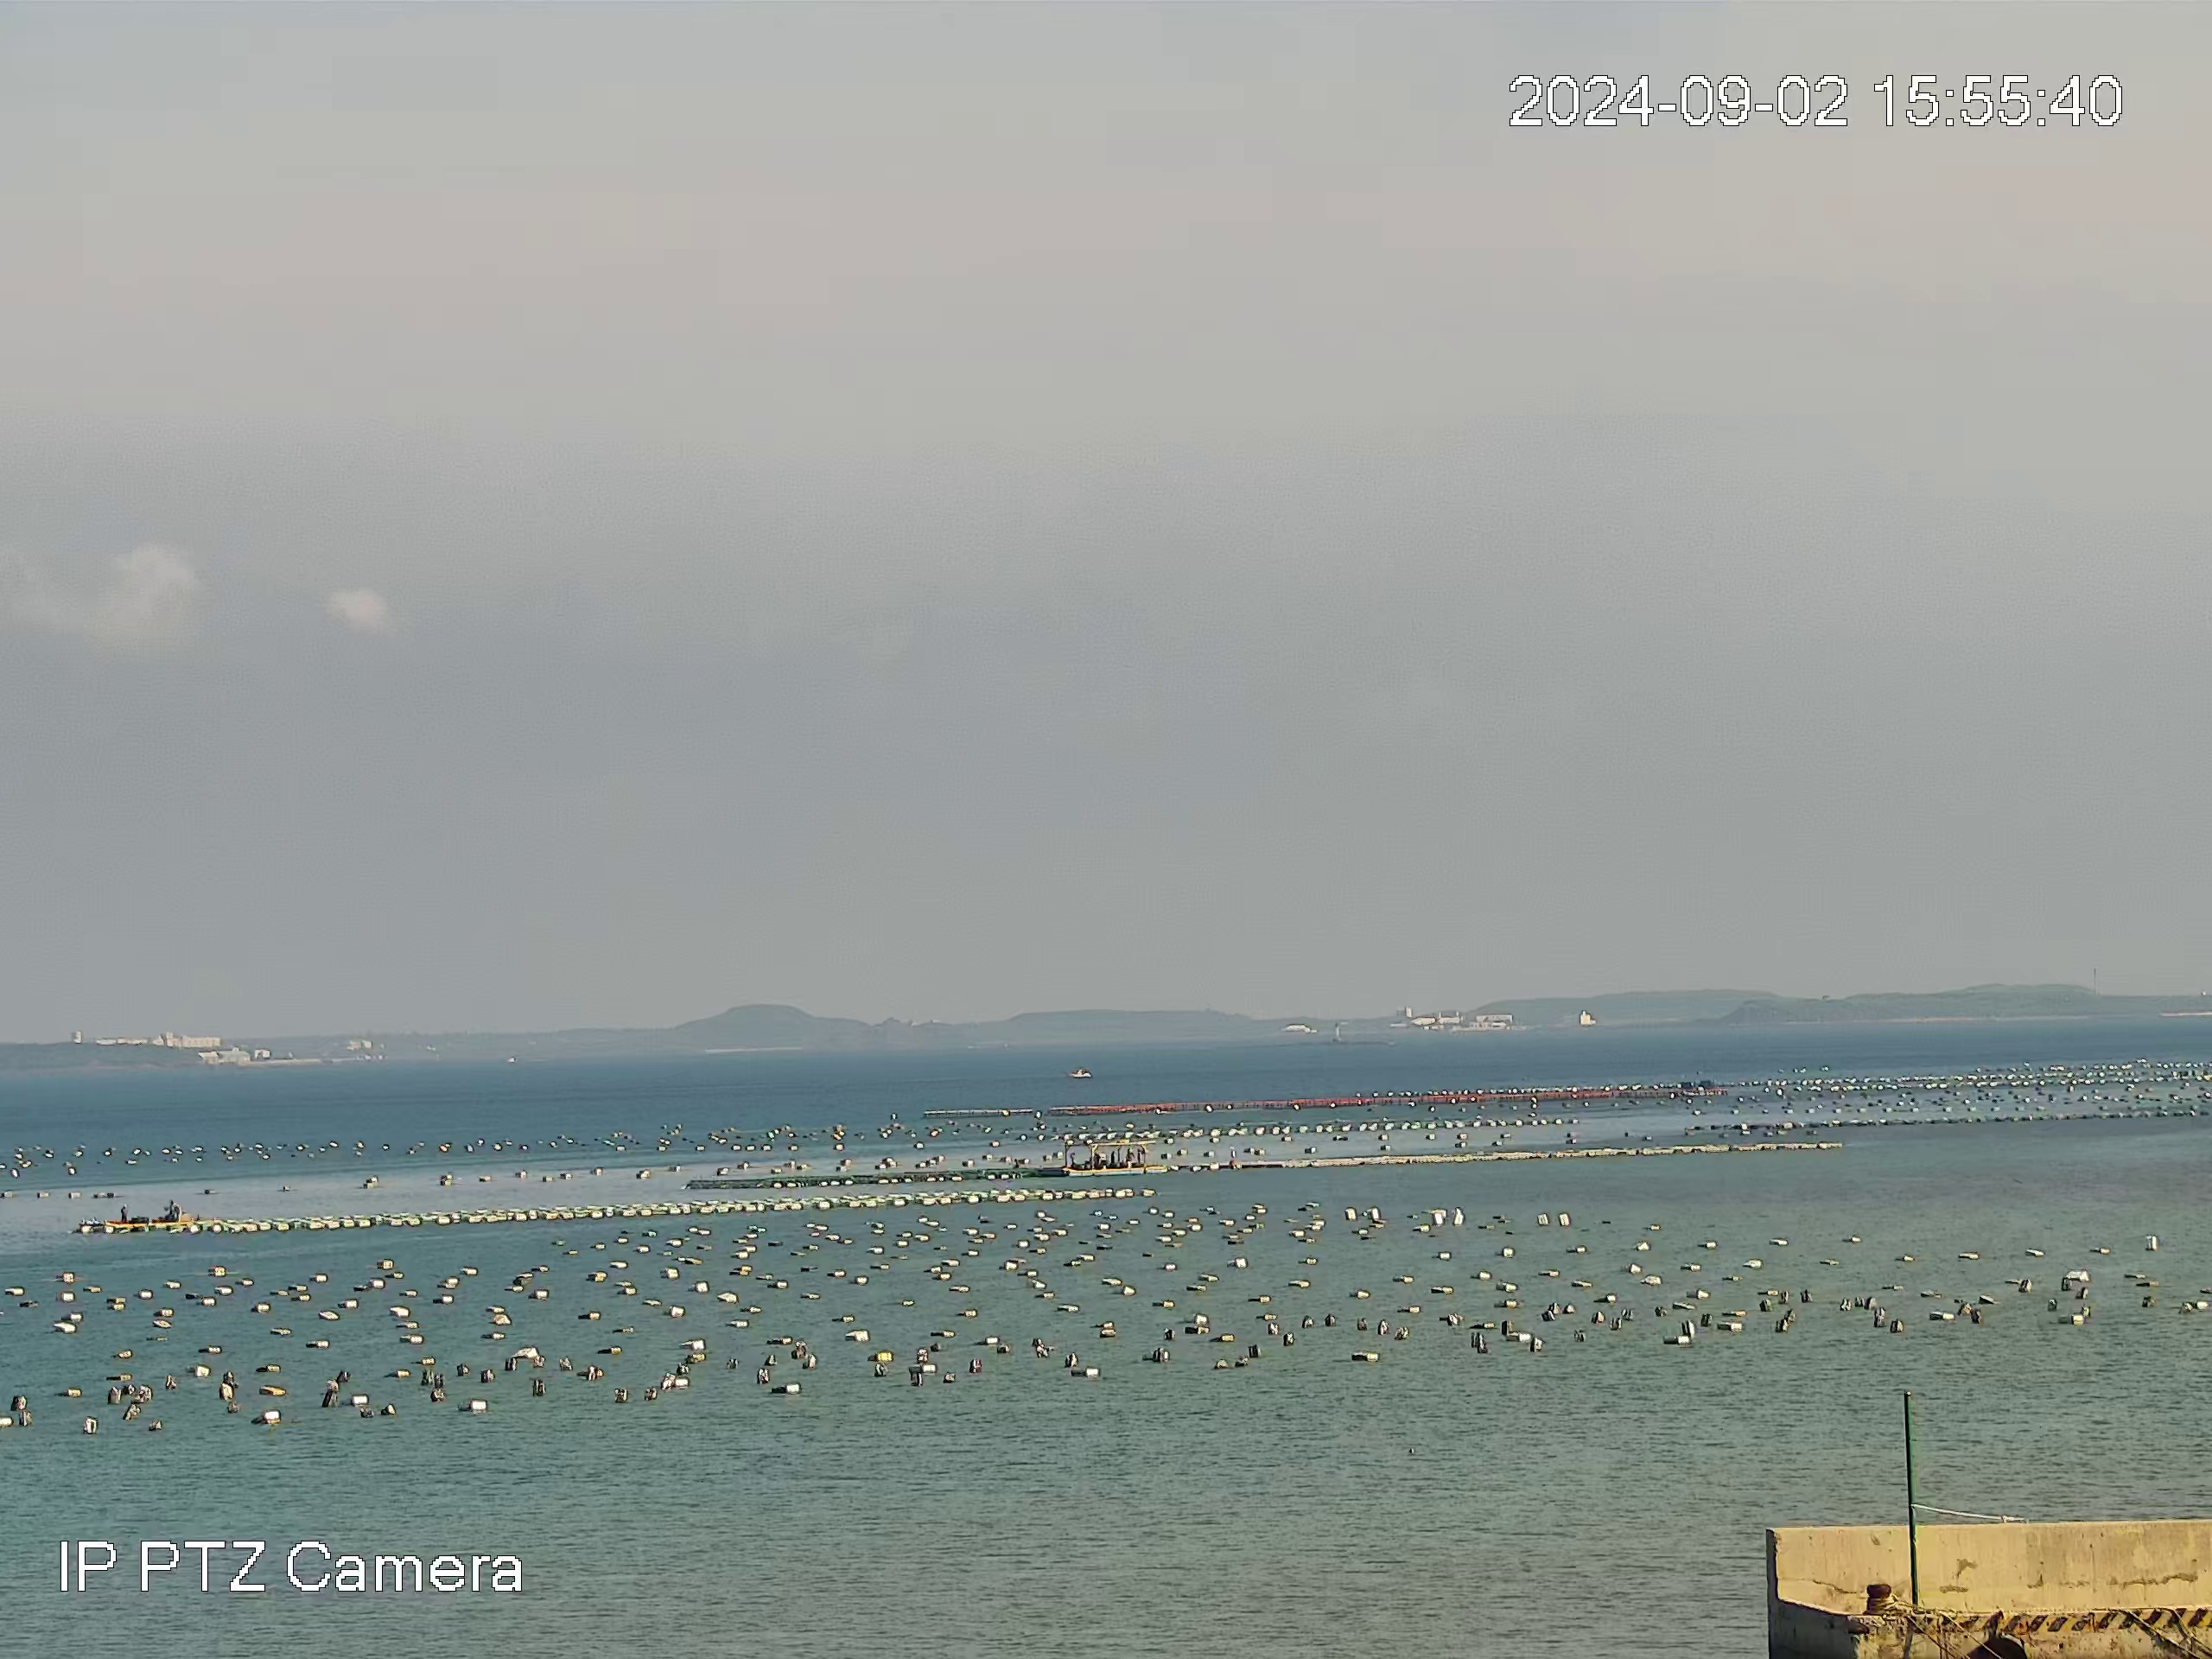boat: (1061, 1138, 1169, 1178), (103, 1197, 225, 1225), (1068, 1065, 1094, 1079)
